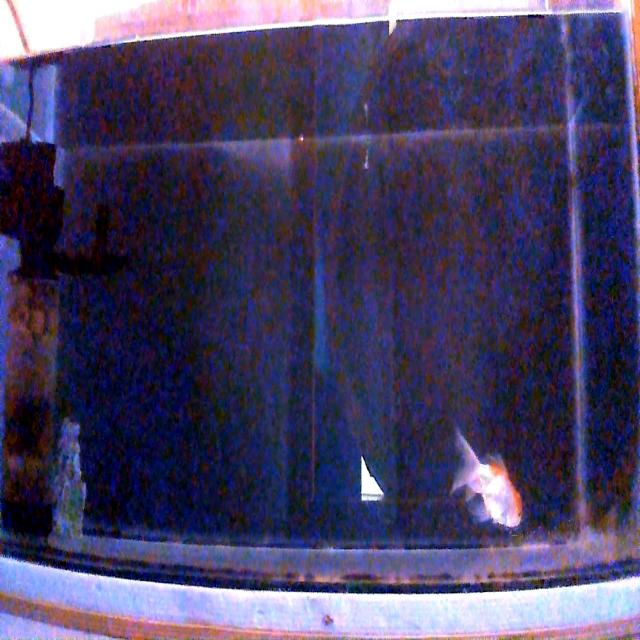fish: (451, 425, 524, 531)
